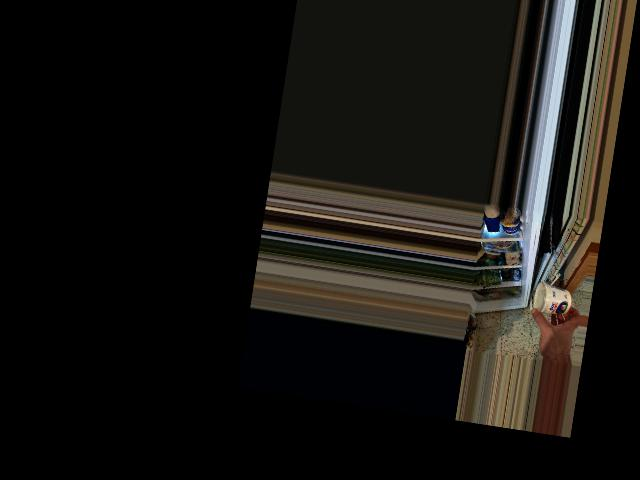cotage: (531, 281, 575, 318)
